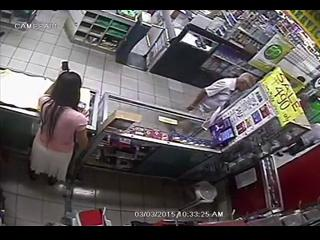Normal: (28, 66, 91, 192), (185, 72, 257, 125)
